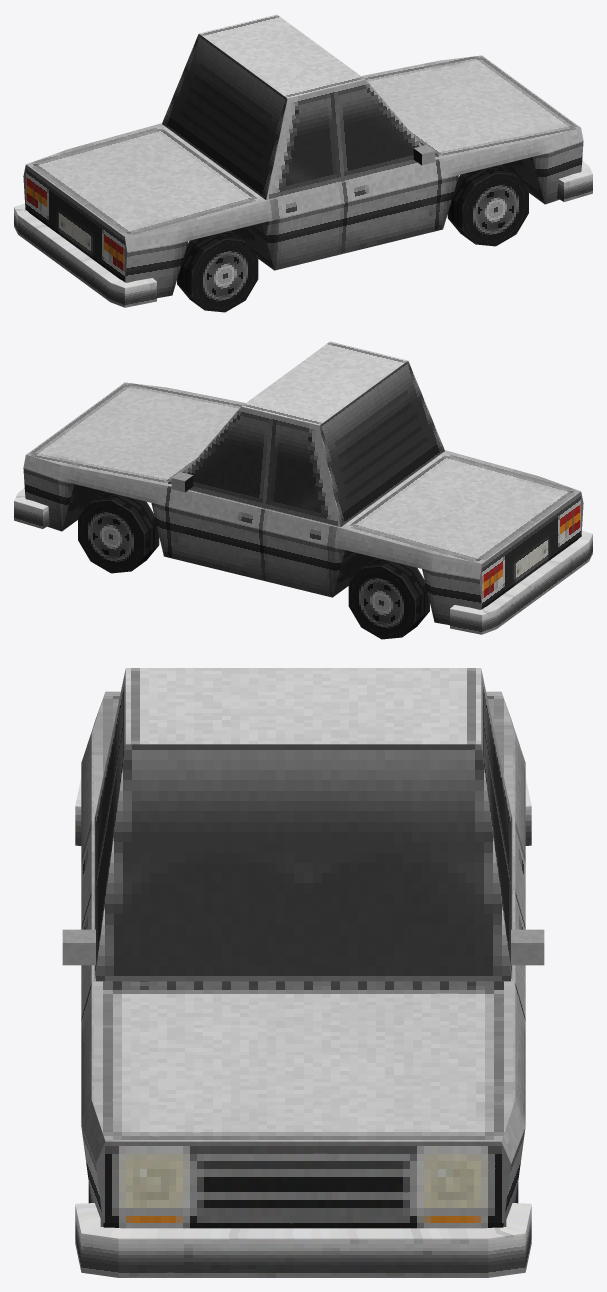
File: car_sedan.glb
3 views of the same model, one above another, from view 1: azimuth 30°, elevation 25°; view 2: azimuth 150°, elevation 25°; view 3: azimuth 270°, elevation 25° (orthographic). The views are drawn at different scales.
Parts seen in each view (by area): view 1: body, wheel_rr, wheel_fr; view 2: body, wheel_rl, wheel_fl; view 3: body.
Part boxes in pixels (left/top/right/bottom): body: left=14, top=14, right=592, bottom=307; wheel_rr: left=177, top=230, right=258, bottom=312; wheel_fr: left=447, top=164, right=528, bottom=246; body: left=14, top=341, right=592, bottom=634; wheel_rl: left=348, top=557, right=429, bottom=639; wheel_fl: left=78, top=491, right=159, bottom=573; body: left=62, top=668, right=544, bottom=1277.
Size of the model in its own units: 0.0107 by 0.00405 by 0.00466.
Materials: 3 (3 with a texture image).
